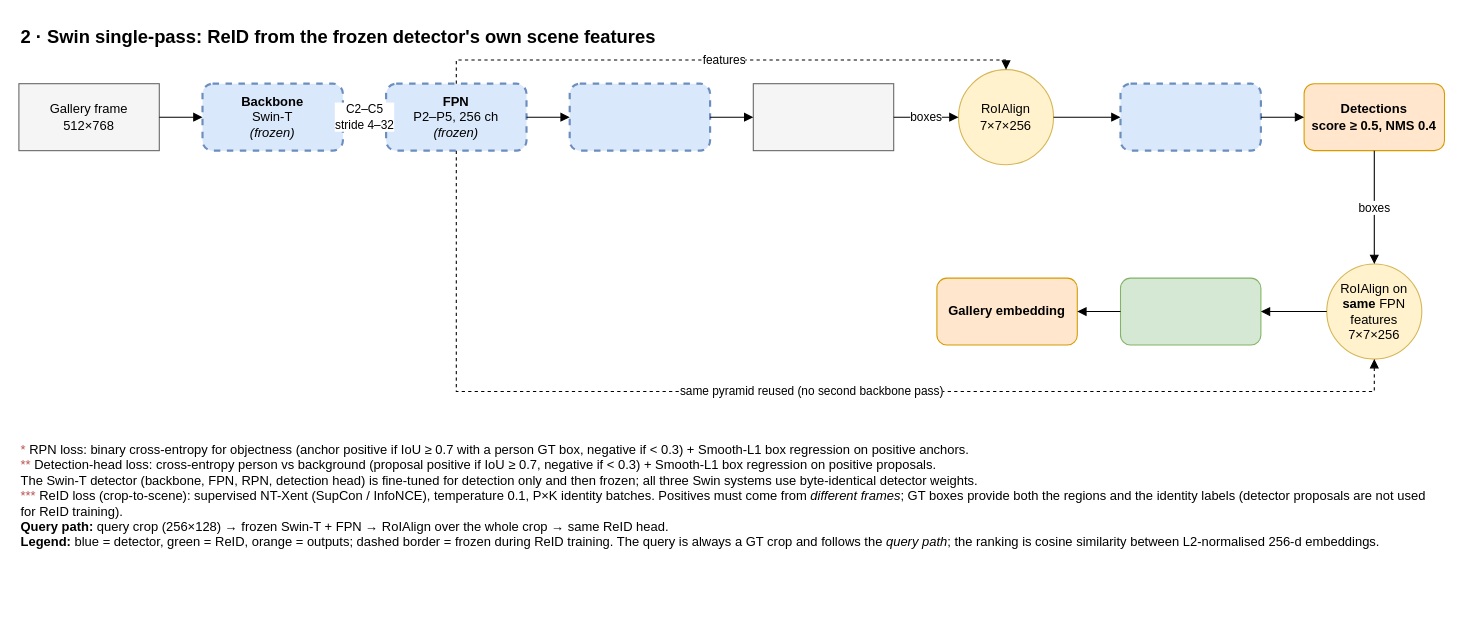
The diagram is 1463 pixels wide and 636 high, and some of its shapes have lost their labels. Each missing label, with the centre of its shape:
Detection head ** fc6–fc7 → class + box (frozen): [1190,116]
ReID RoI head *** fc6–fc7 → 256-d, L2 (only trained part): [1190,311]
RPN * objectness + box deltas (frozen): [639,116]
Top-K + NMS ≤100 proposals: [823,117]
